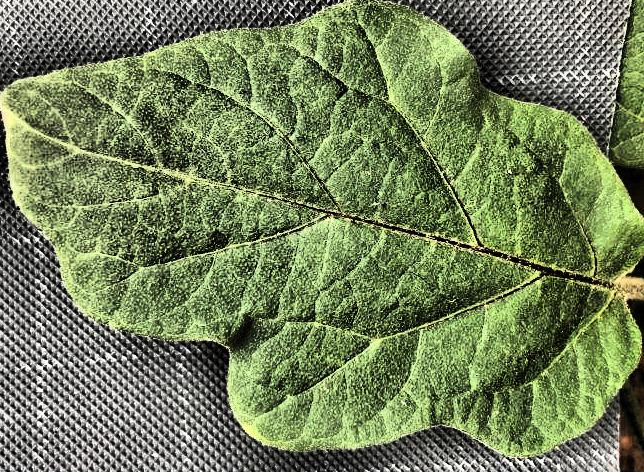HEALTHY: (0, 1, 644, 472)
